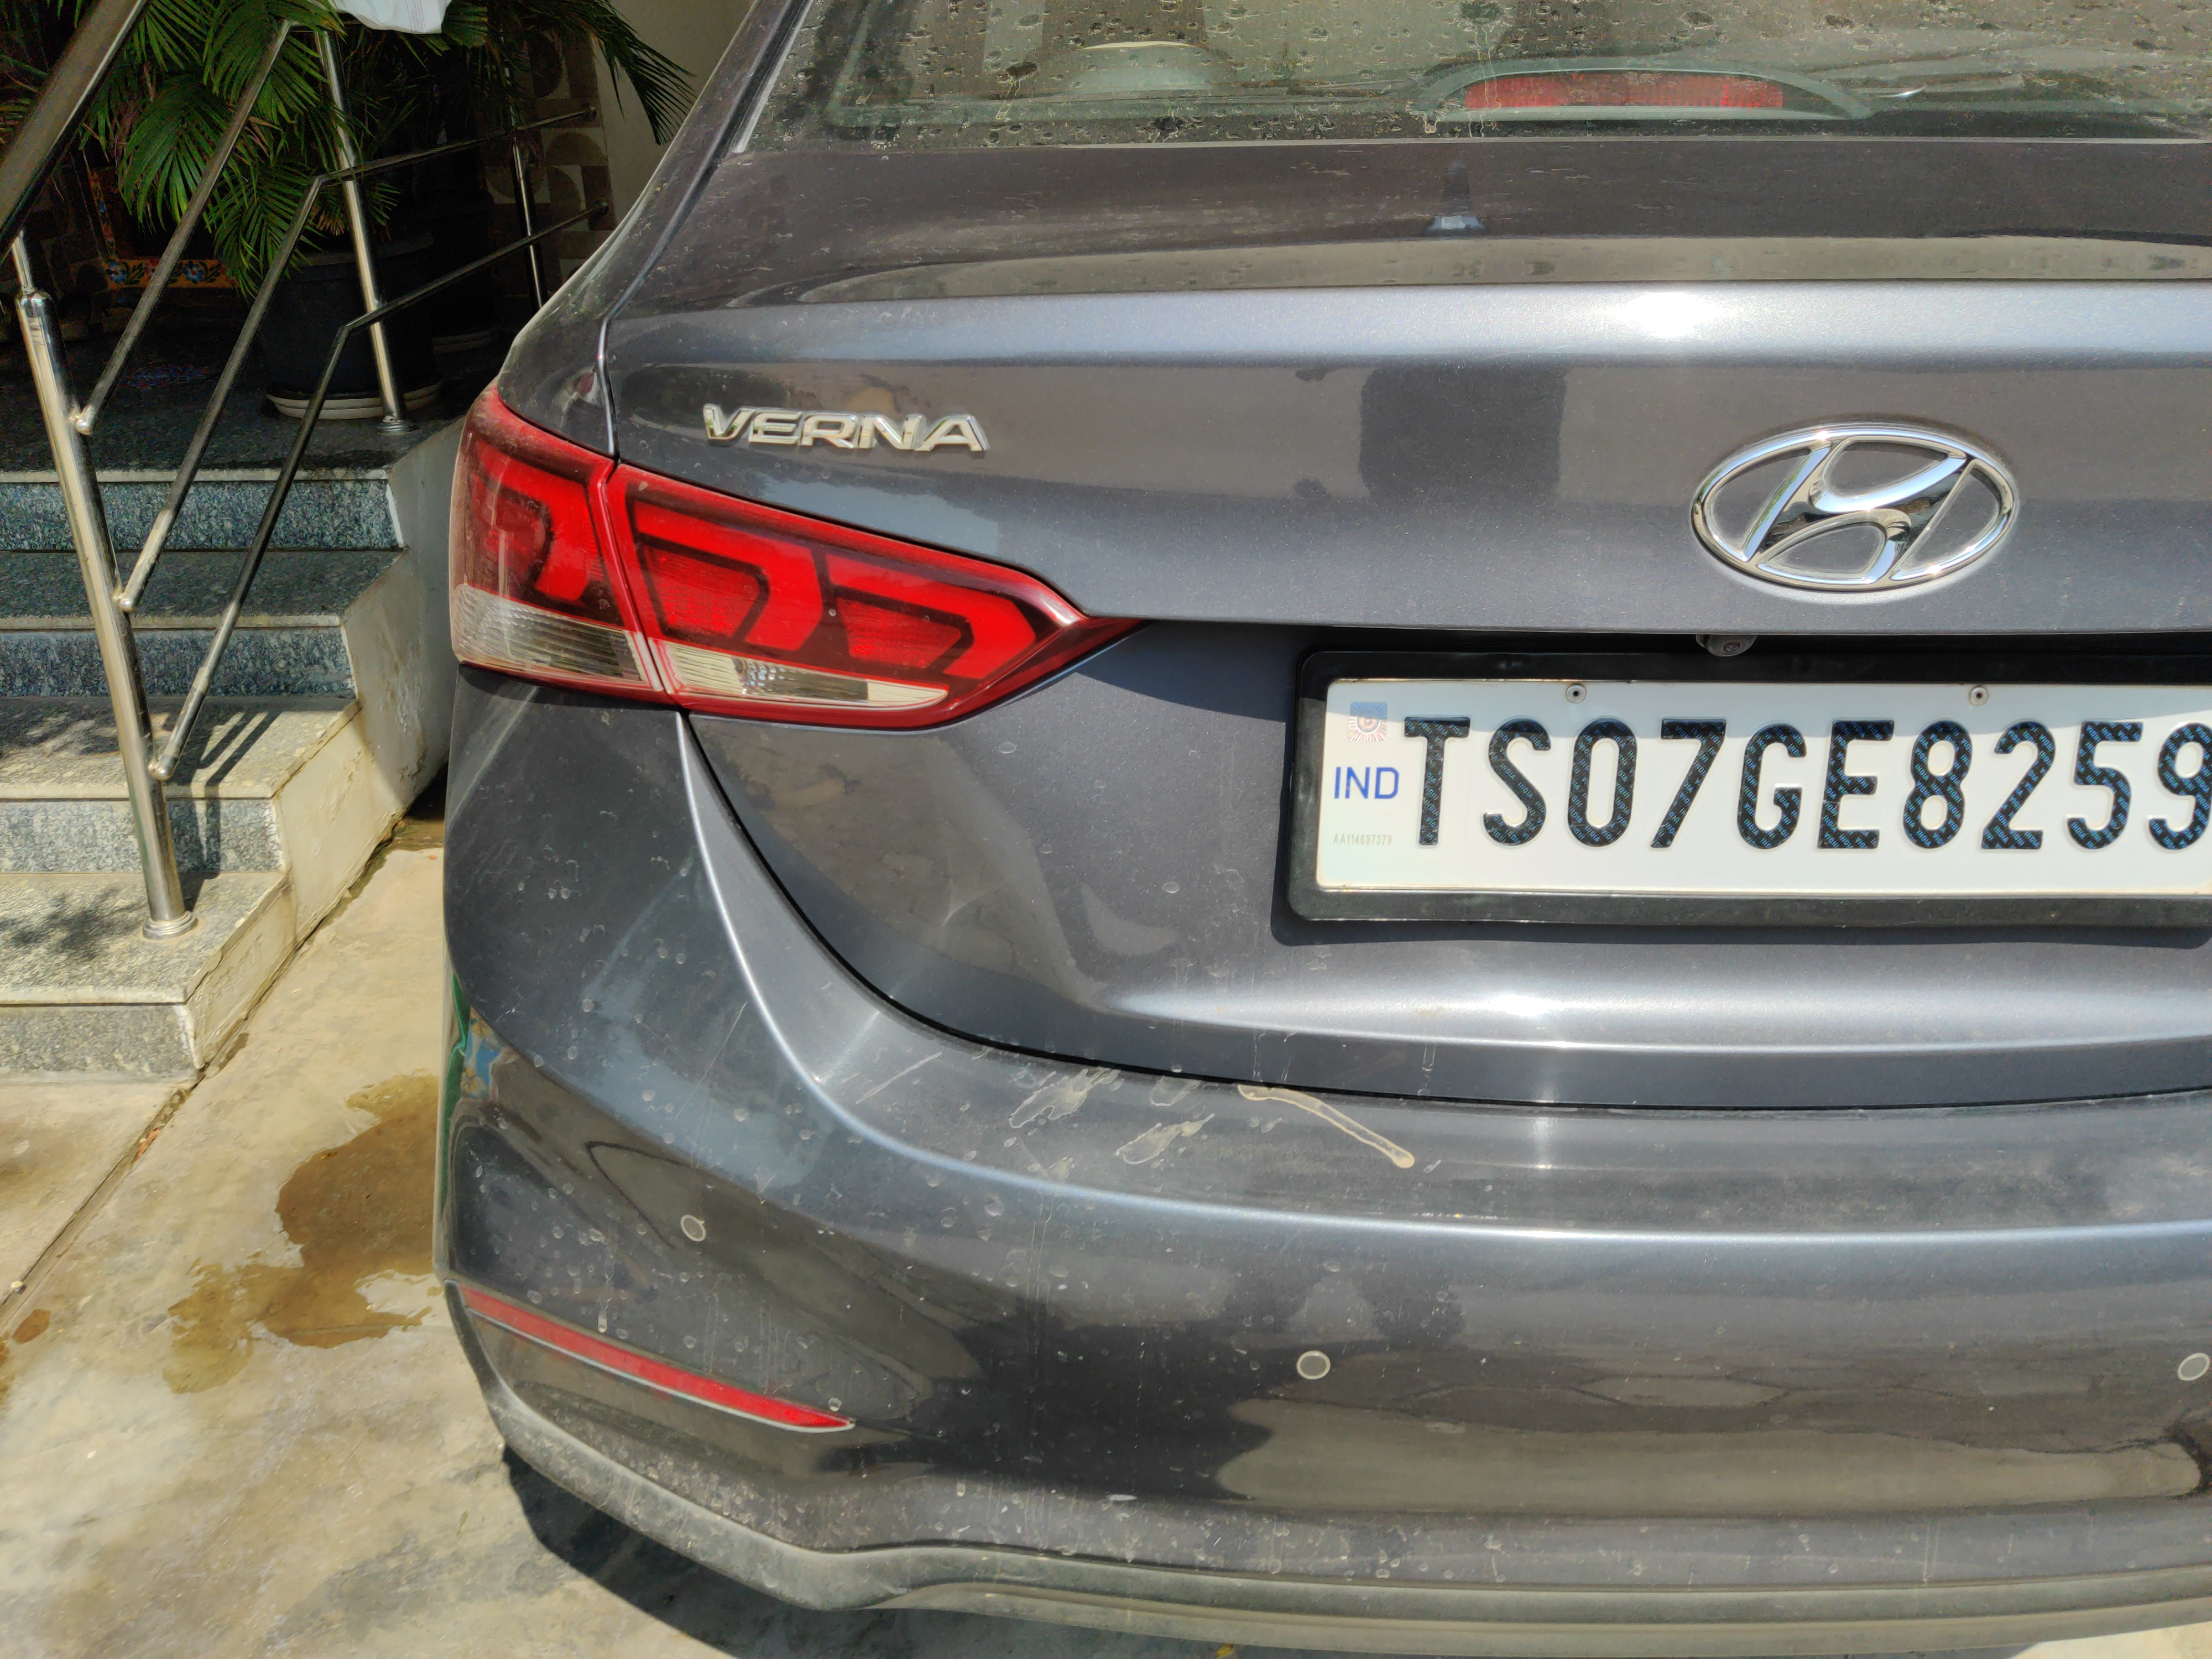plate: (1272, 596, 2212, 979)
